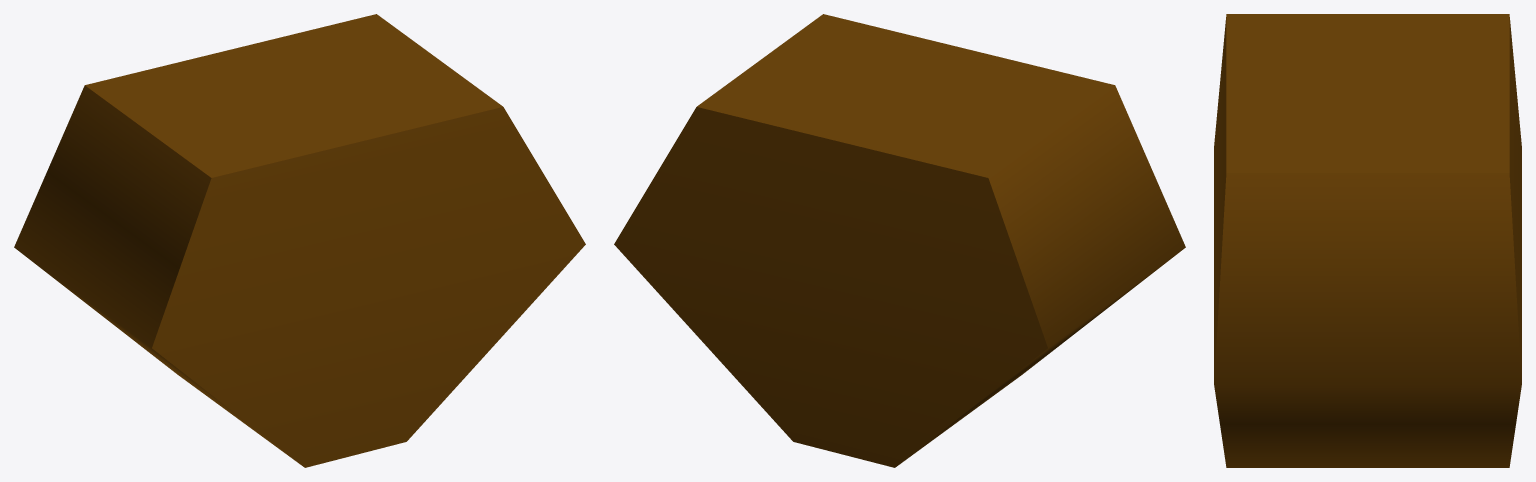
3 views of the same model, side by side, from view 1: azimuth 30°, elevation 25°; view 2: azimuth 150°, elevation 25°; view 3: azimuth 270°, elevation 25° (orthographic). The views are drawn at different scales.
Parts seen in each view (by area): view 1: 5; view 2: 5; view 3: 5.
Part boxes in pixels (box(x1,y1,x2,y2)): 5: box(14, 14, 585, 467); 5: box(614, 14, 1185, 467); 5: box(1214, 14, 1521, 467).
Bounding box in the file's own units: 41.06 × 28.27 × 22.58.
